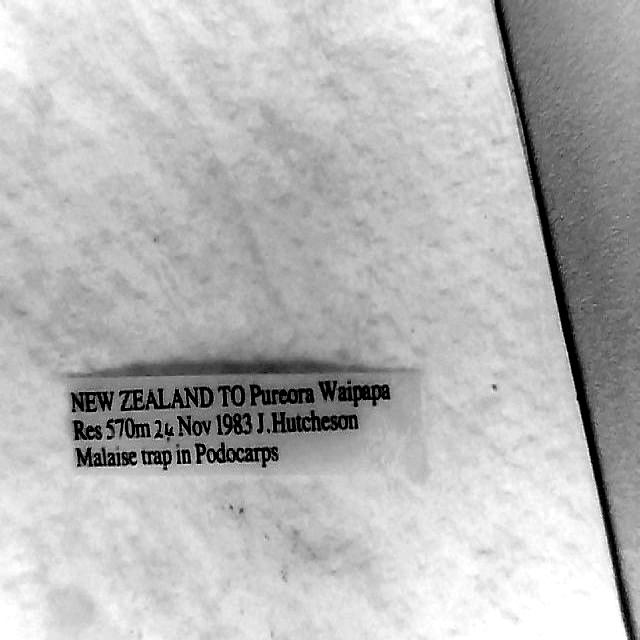typed_label: (70, 372, 425, 479)
